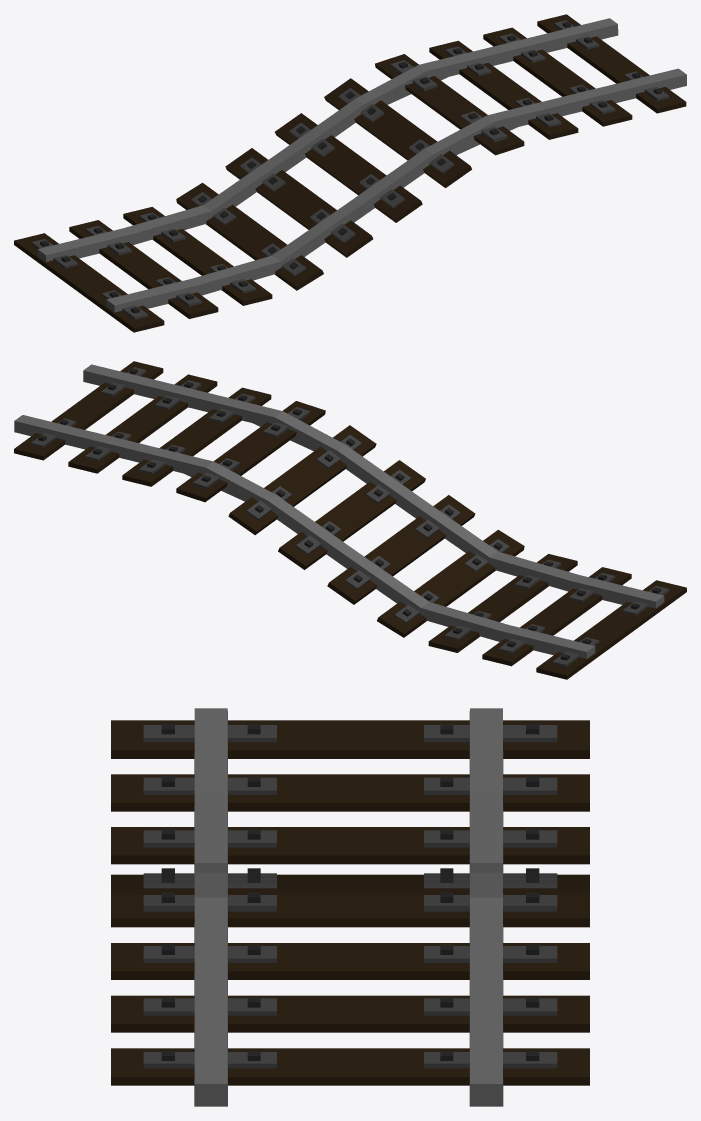
The model's file is rail_up.fbx.
3 renders of one model, top to bottom at view 1: azimuth 30°, elevation 25°; view 2: azimuth 150°, elevation 25°; view 3: azimuth 270°, elevation 25°, orthographic. The views are drawn at different scales.
Visible parts, largest first — view 1: Plane.011; view 2: Plane.011; view 3: Plane.011.
Boxes of the visible parts, box(x1,y1,x2,y2) form: Plane.011: box(14, 14, 686, 332); Plane.011: box(14, 361, 686, 679); Plane.011: box(111, 708, 589, 1106).
Bounding box in the file's own units: 6.57 × 1.13 × 2.38.
